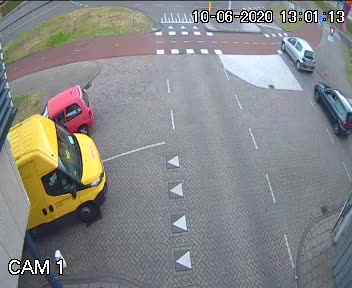car: (0, 123, 119, 238), (44, 80, 100, 140), (310, 78, 352, 137), (278, 33, 315, 71)
